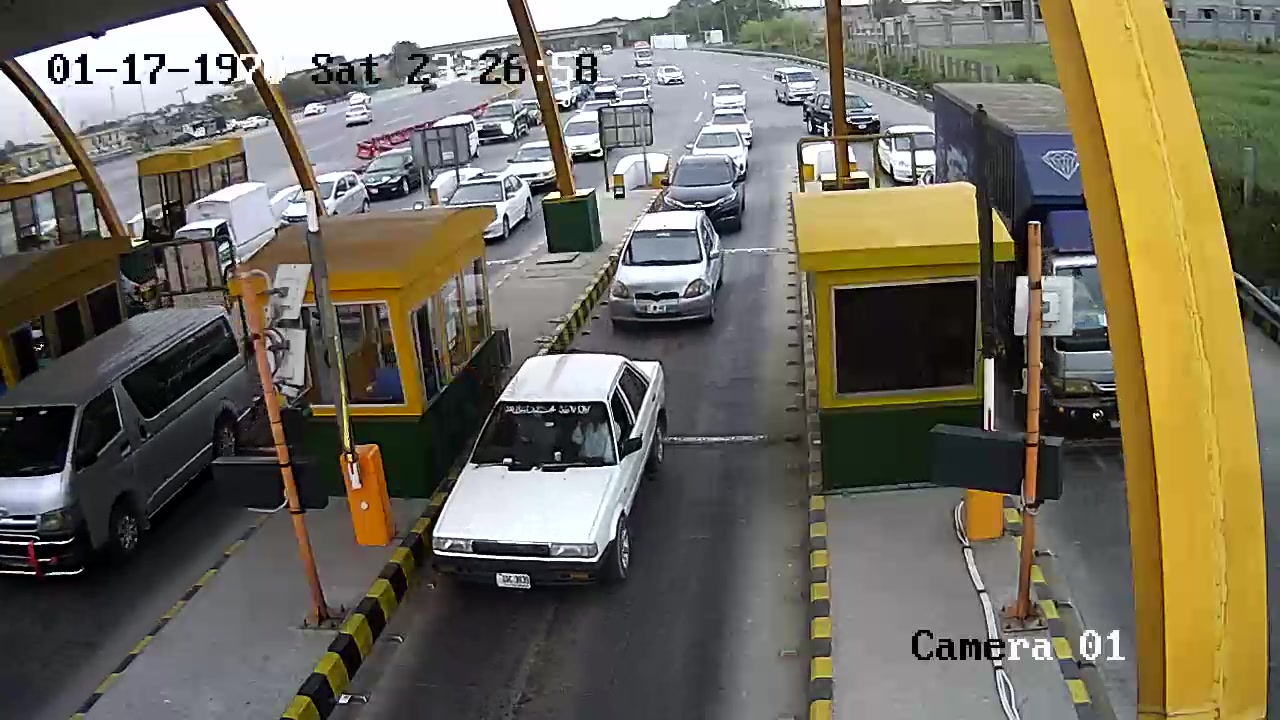F1: (434, 344, 674, 607)
